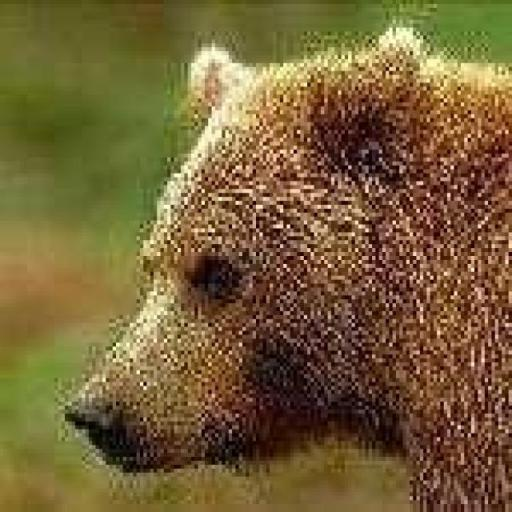Bear: (58, 24, 508, 508)
